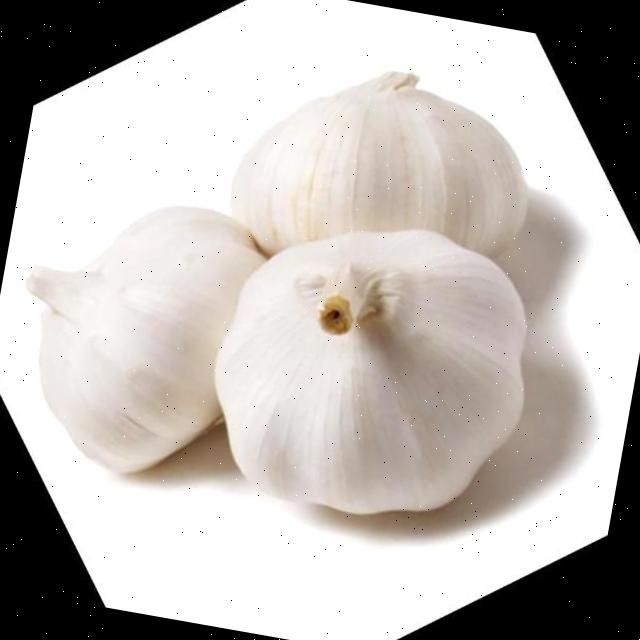garlic: (214, 229, 526, 513), (26, 206, 265, 472), (232, 73, 527, 256)
